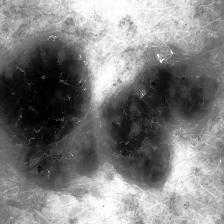Benign Marking or Mole: (0, 35, 99, 190), (103, 63, 218, 189)
